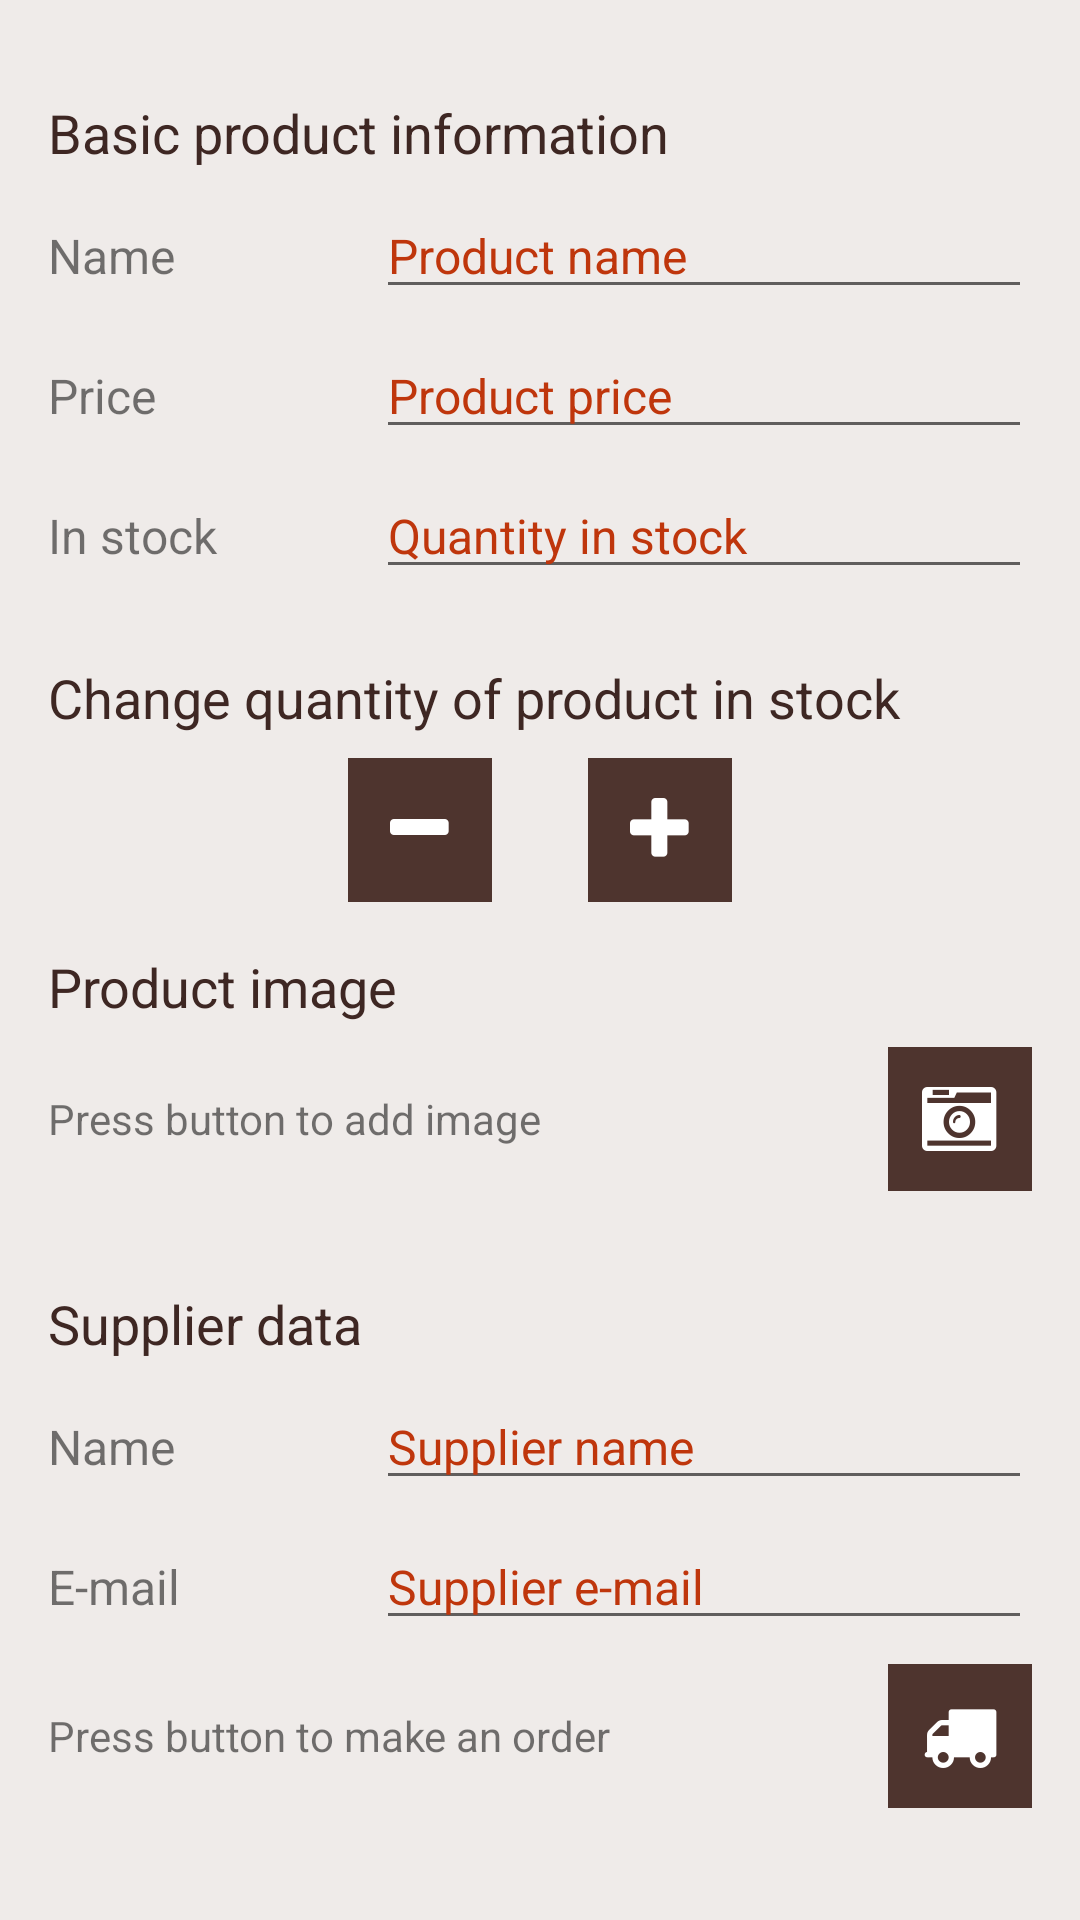

Screen size 1080×1920. Icon name, then its center in pixels as (x,y):
Add image: (960,1119)
Decrease quantity: (420,830)
Increase quantity: (660,830)
Order: (960,1736)
